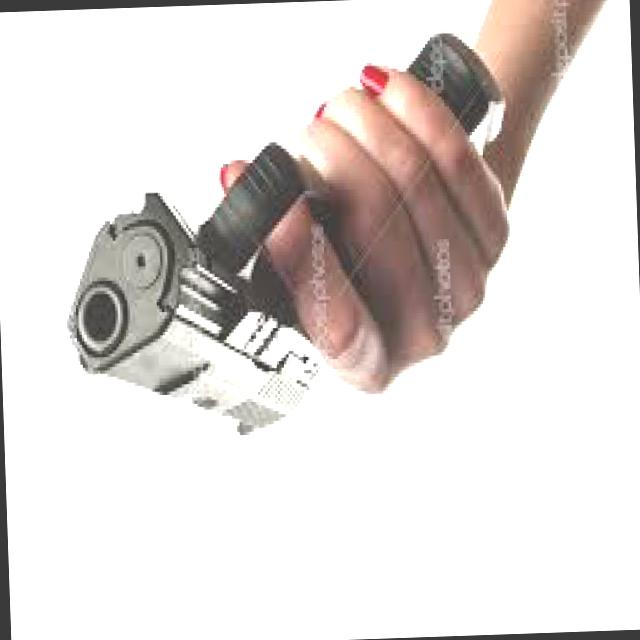handgun: (41, 37, 518, 444)
